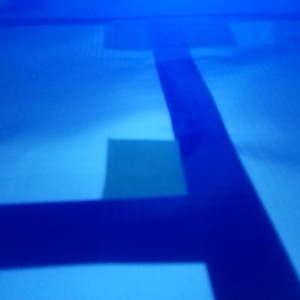bottom_left: (104, 16, 182, 50)
bottom_right: (151, 16, 238, 47)
top_left: (102, 139, 231, 261)
